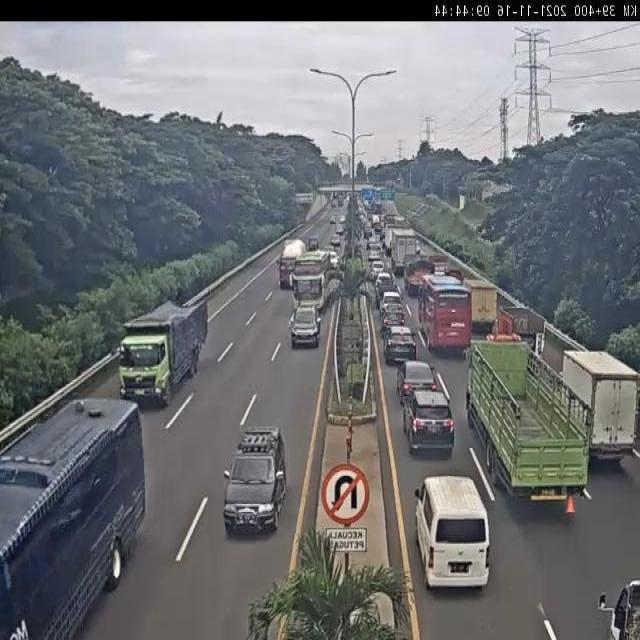Bus: (0, 390, 147, 640), (416, 271, 474, 358)
Car: (221, 424, 288, 539), (401, 386, 455, 454), (394, 358, 438, 403), (289, 304, 322, 350), (382, 327, 417, 365), (380, 303, 408, 337), (379, 290, 404, 317), (374, 272, 393, 288), (371, 259, 386, 279), (328, 250, 340, 268), (368, 246, 381, 262), (366, 236, 379, 251), (308, 235, 319, 251), (330, 234, 341, 246), (363, 227, 373, 239), (336, 224, 344, 236), (339, 215, 345, 224), (330, 217, 336, 224)
Truck: (465, 336, 593, 514), (117, 298, 207, 408), (560, 350, 638, 465), (290, 248, 334, 309), (494, 302, 546, 349), (467, 276, 500, 330), (388, 228, 419, 277), (278, 237, 307, 289), (404, 256, 435, 296), (383, 223, 406, 257), (379, 200, 399, 223), (383, 214, 406, 233)
Van: (414, 473, 494, 597)
